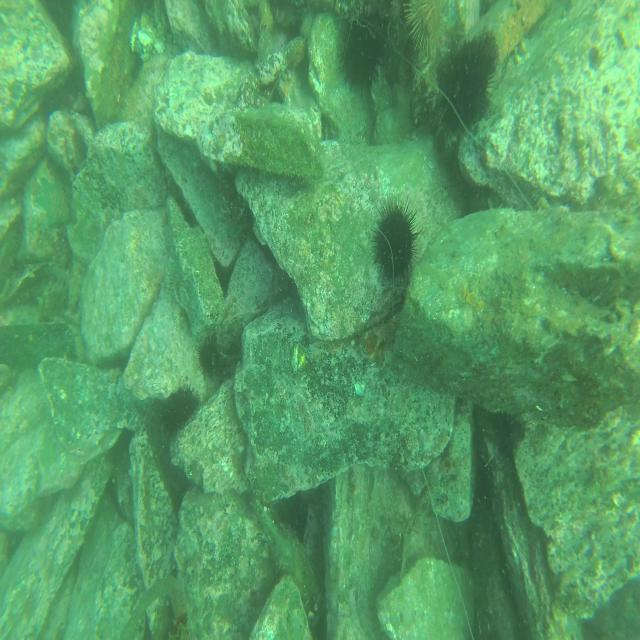echinus: (340, 13, 386, 92), (373, 204, 416, 282), (447, 49, 491, 120), (404, 0, 450, 57), (162, 385, 202, 433)
